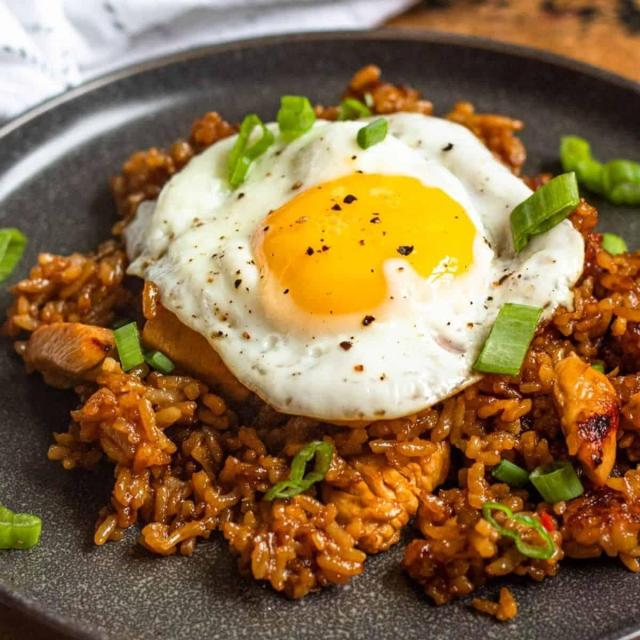Nasi Goreng: (34, 99, 636, 572)
